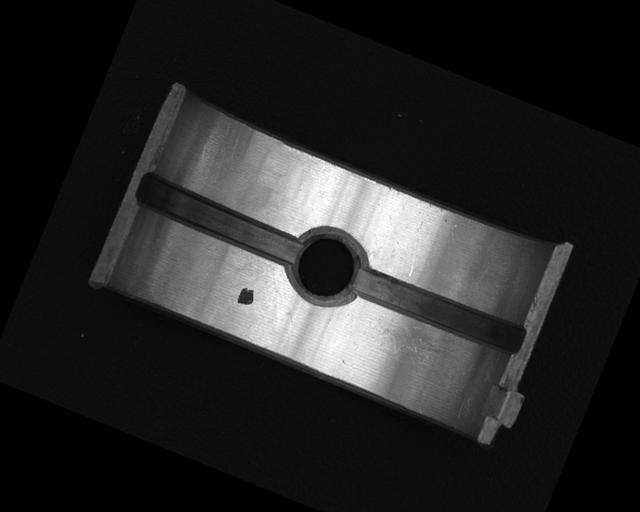blot: (235, 284, 257, 309)
gap: (346, 259, 530, 361), (130, 172, 303, 269)
hole: (278, 218, 372, 315)
nick: (399, 220, 433, 277)
scratch: (370, 308, 477, 382)
